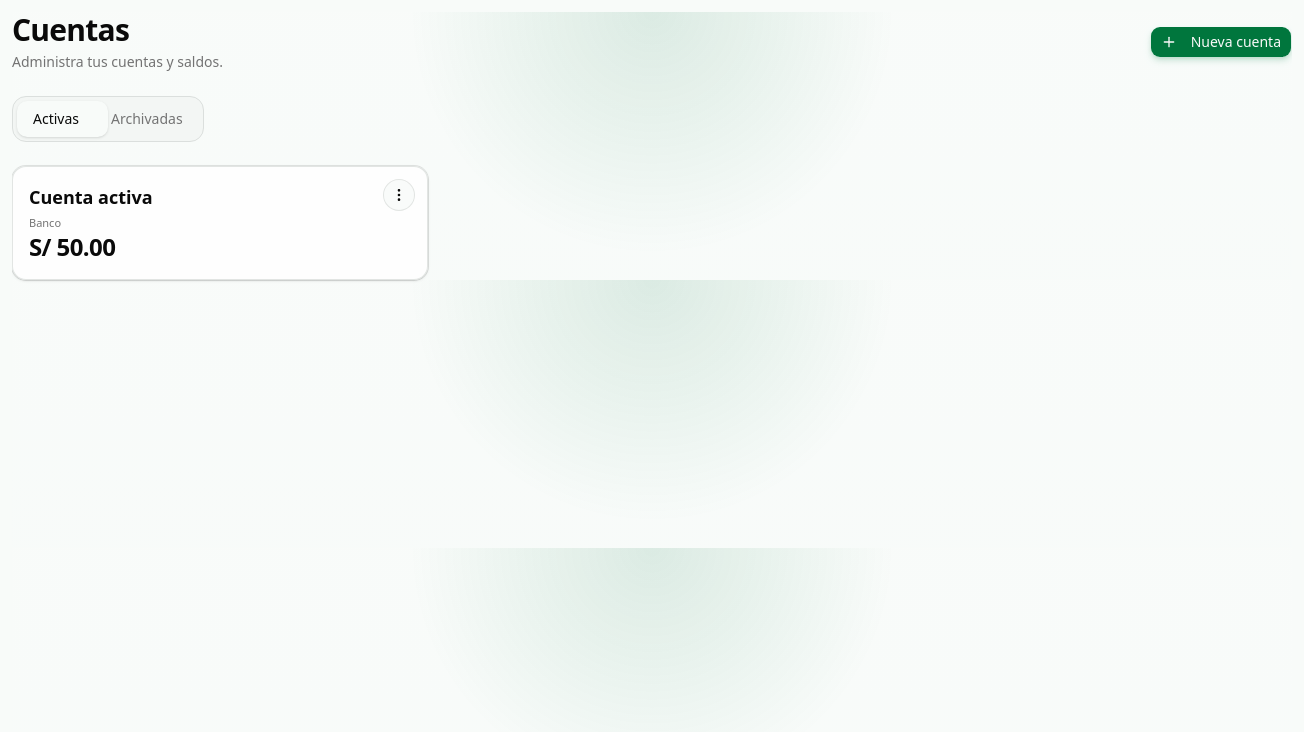
it: AccountsPage › muestra cuentas activas y permite filtrar las archivadas
The width and height of the screenshot is (1304, 732).
Check: the heading "Cuenta activa" is shown, box [29,183,153,211]
Click the button "Archivadas" at (147, 119), box [95,101,199,137]
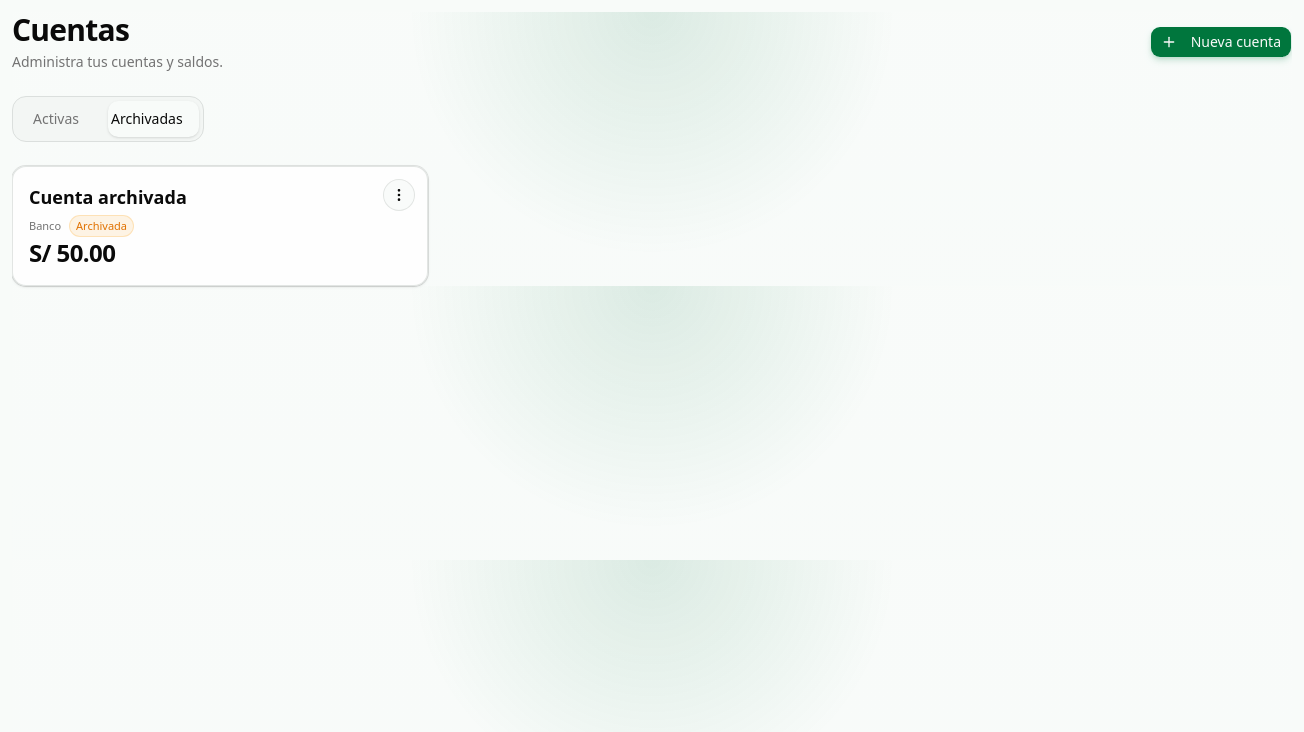
Check: the heading "Cuenta archivada" is shown, box [29,183,187,211]
